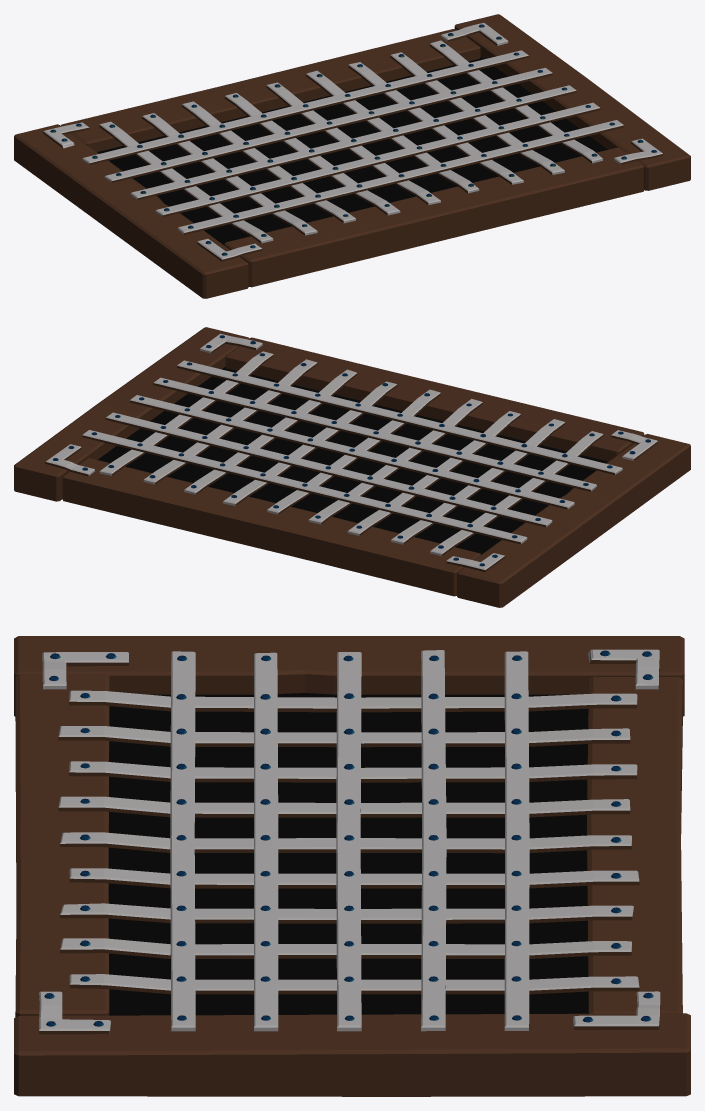
The model's file is MEDSpikeWoodenGrate.fbx.
3 renders of one model, top to bottom at view 1: azimuth 30°, elevation 25°; view 2: azimuth 150°, elevation 25°; view 3: azimuth 270°, elevation 25°, orthographic. The views are drawn at different scales.
Parts seen in each view (by area): view 1: MEDSpikeWoodenGrate; view 2: MEDSpikeWoodenGrate; view 3: MEDSpikeWoodenGrate.
Boxes of the visible parts, <box> form: MEDSpikeWoodenGrate: <box>14,14,690,298</box>; MEDSpikeWoodenGrate: <box>14,327,690,607</box>; MEDSpikeWoodenGrate: <box>14,636,690,1096</box>.
Size of the model in its own units: 176 by 10.36 by 120.
